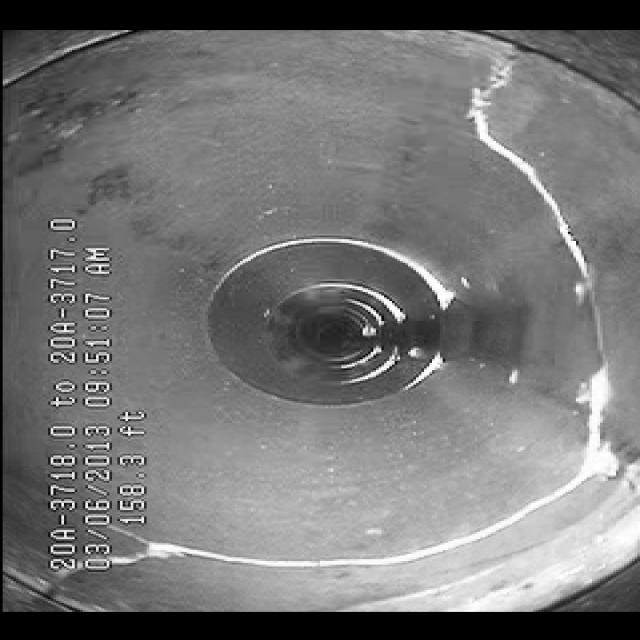Fracture: (460, 67, 610, 376)
